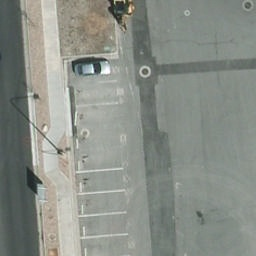car: (68, 62, 112, 76)
other: (99, 0, 138, 22)
